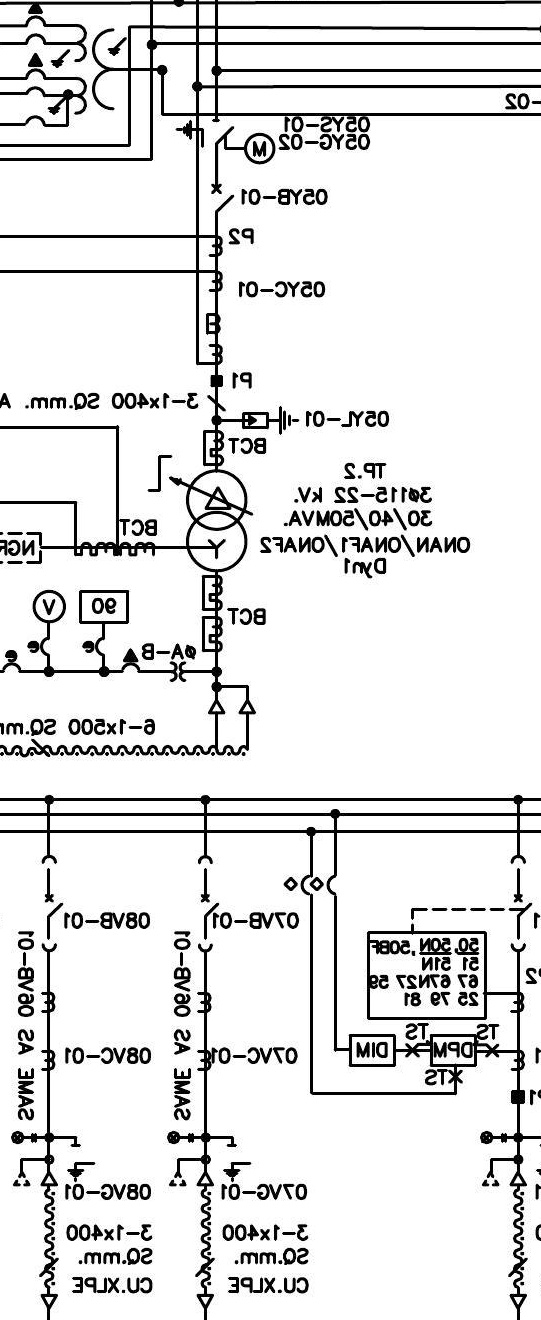11522_tx_dyn1: (185, 468, 249, 573)
115_3ways_ds_w_motor: (175, 119, 276, 166)
115_breaker: (202, 184, 226, 214)
115_la: (241, 405, 300, 436)
115_vt_1p: (24, 2, 128, 116)
22_breaker: (40, 854, 64, 953), (510, 854, 534, 953), (197, 854, 220, 953)
22_gs: (66, 1143, 97, 1183), (222, 1143, 252, 1183)
22_ll: (479, 1130, 508, 1145), (166, 1130, 195, 1145), (10, 1130, 39, 1145)
DIM: (348, 1033, 397, 1068)
DPM: (429, 1033, 478, 1068)
terminator_double: (207, 684, 257, 715)
terminator_single: (509, 1293, 528, 1310), (196, 1293, 215, 1310), (40, 1293, 59, 1310)
terminator_w_future: (481, 1156, 528, 1187), (168, 1157, 215, 1188), (12, 1157, 59, 1188)
v_m: (32, 589, 67, 625)
